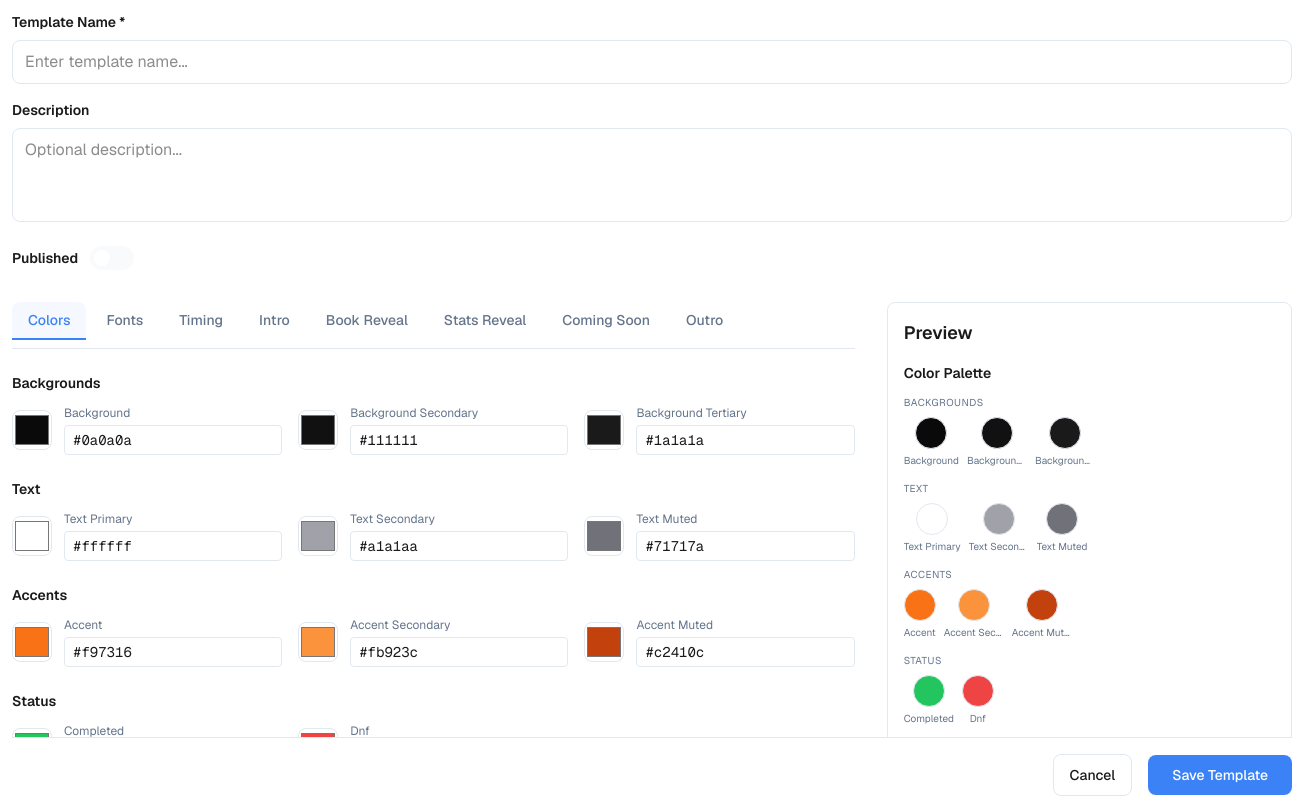
Test: TemplateEditorClient › clicking a tab switches the visible panel content
Click Fonts tab
Click the button "Fonts" at (125, 321), box [90,302,159,340]
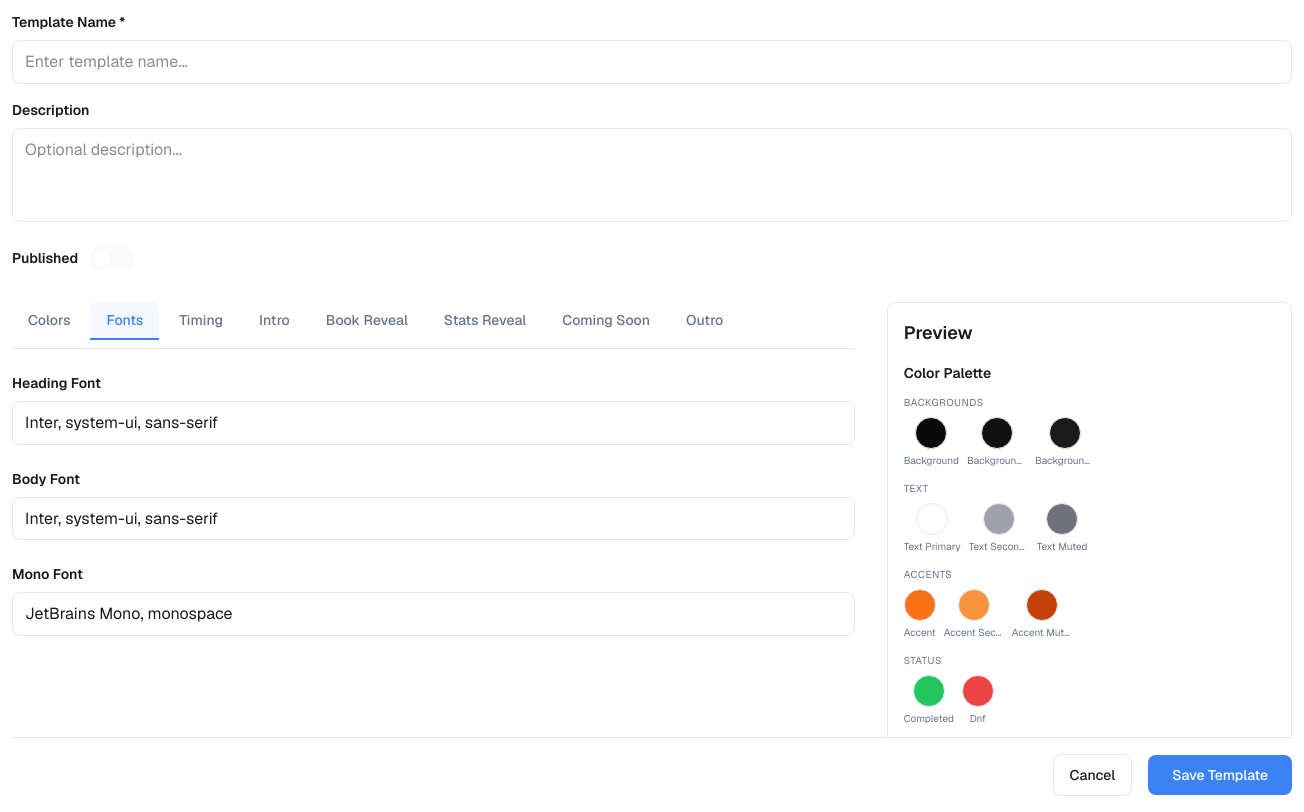
Expected: the text "Heading Font" is shown, [12,374,101,392]
Click Timing tab
Click the button "Timing" at (201, 321), box [163,302,239,340]
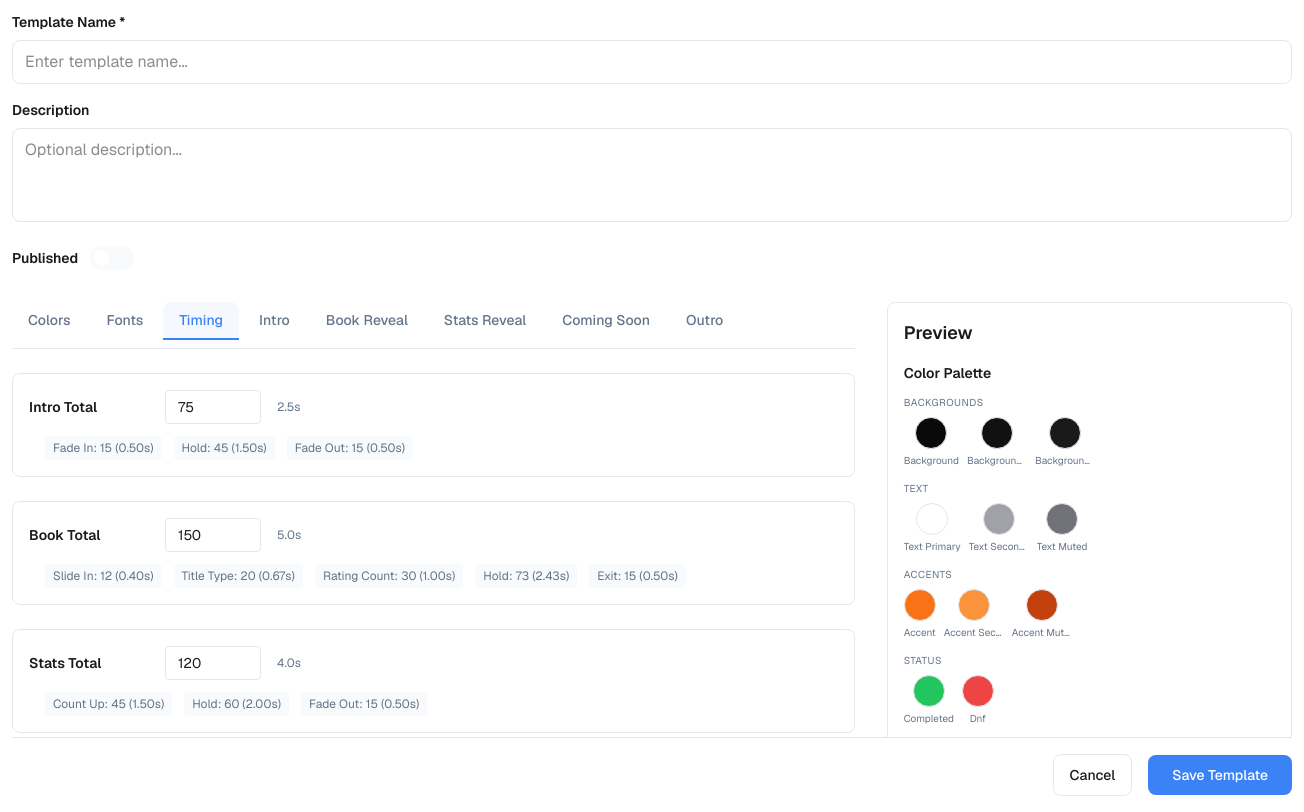
Expected: the text "Intro Total" is shown, [29,398,97,416]
Click Intro tab
Click the button "Intro" at (274, 321), box [243,302,306,340]
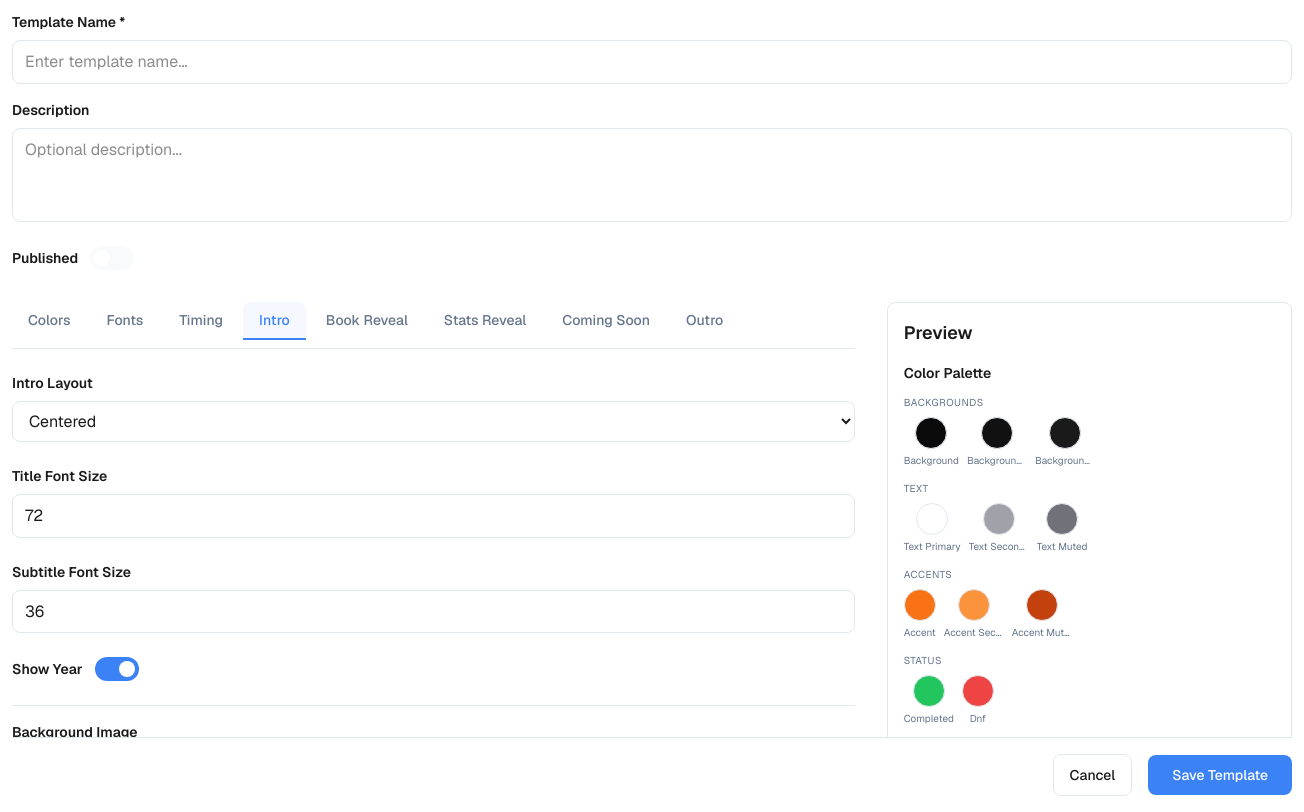
Expected: the text "Intro Layout" is shown, [12,374,93,392]
